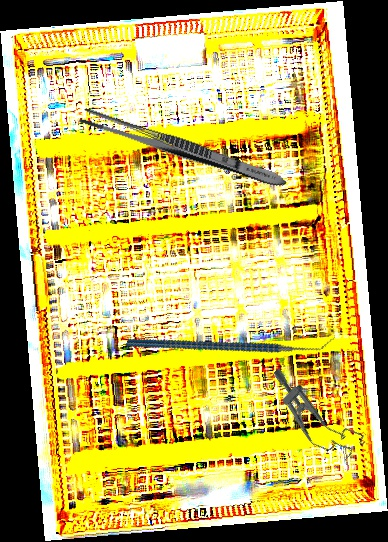Chopper: (125, 268, 335, 415)
Dressing Forceps: (76, 105, 290, 193)
Speculum: (256, 361, 368, 470)
